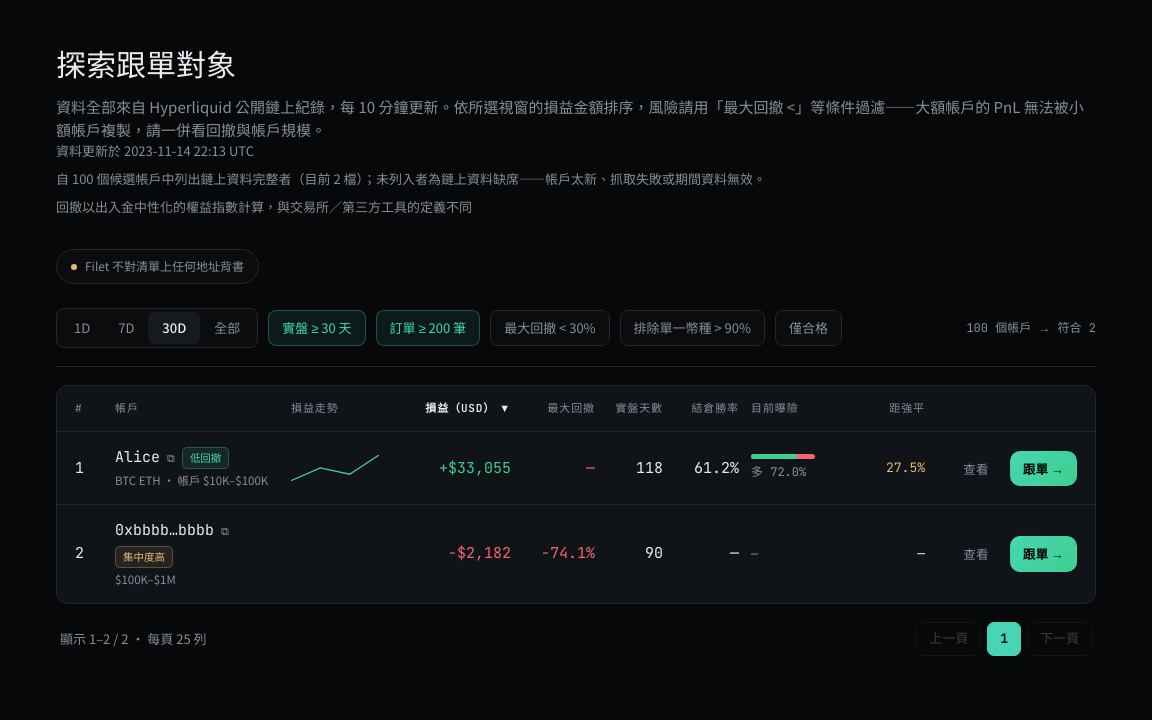
ExplorePage — R4-10 qualified chip 拆分 › W5：「最大回撤 <」chip 關閉時不顯示提示；開啟後顯示回撤過濾無證據不過濾的提示
This screenshot has width=1152, height=720.
expect the link "Alice" is shown: met, box [115,446,160,470]
expect the text "回撤算不出的帳戶不在此過濾範圍，其回撤欄顯示 —" is not shown: met
Click the button "最大回撤 < 30%" at (550, 328), box [490,310,610,346]
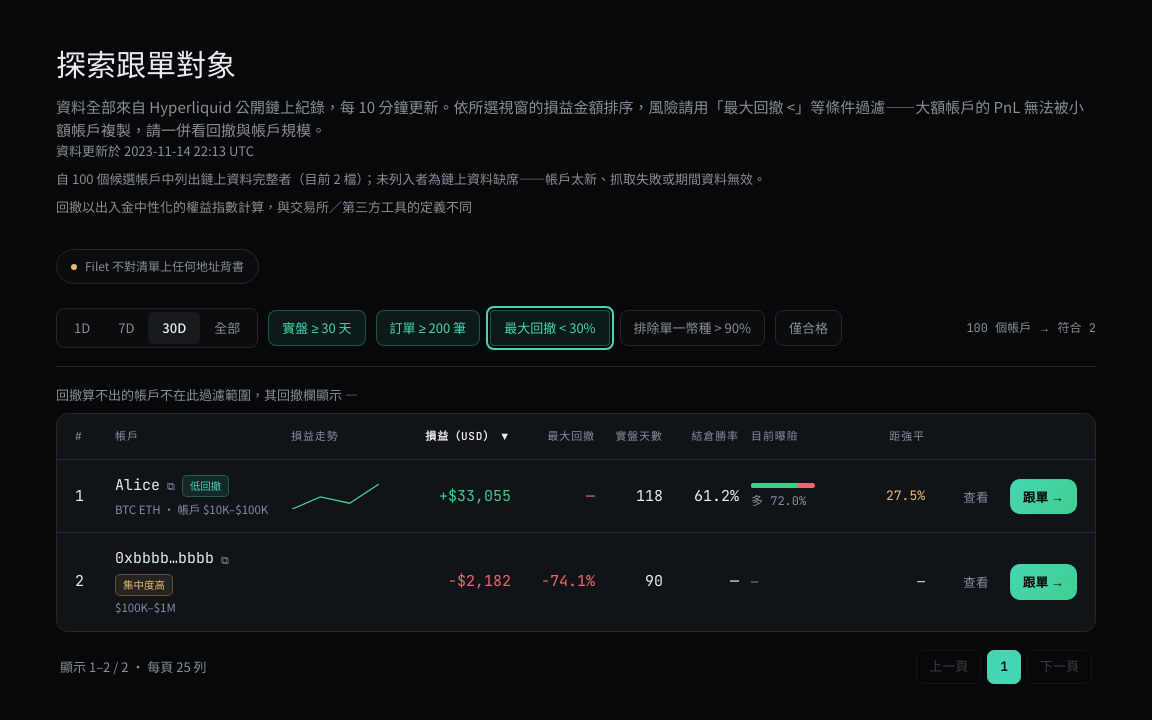
expect the text "回撤算不出的帳戶不在此過濾範圍，其回撤欄顯示 —" is shown: met, box [56,385,358,404]
